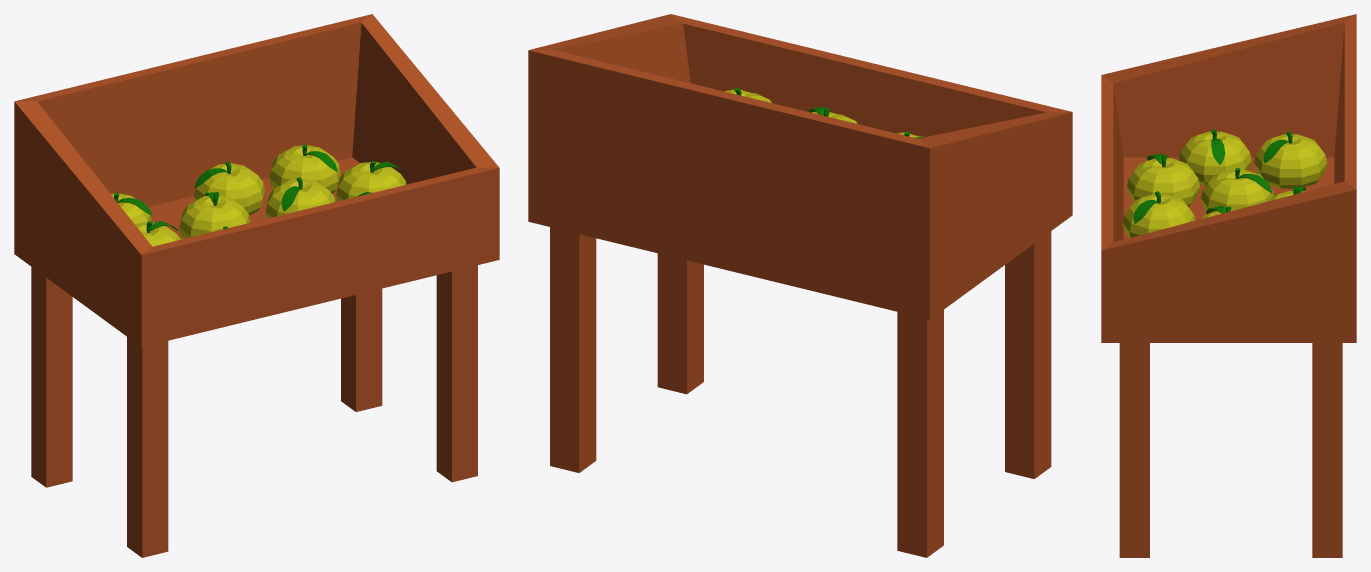
Rendered from stall2.fbx.
3 renders of one model, left to right at view 1: azimuth 30°, elevation 25°; view 2: azimuth 150°, elevation 25°; view 3: azimuth 270°, elevation 25°, orthographic. The views are drawn at different scales.
Visible parts, largest first — view 1: Cube, Sphere.007, Cube.001, Cube.002, Cube.003, Cube.004, Sphere.019; view 2: Cube, Cube.003, Cube.004, Cube.001, Cube.002; view 3: Cube, Sphere.007, Cube.002, Cube.004, Sphere.019.
Boxes of the visible parts, <box> form: Cube: <box>14,14,499,347</box>; Sphere.007: <box>111,145,406,246</box>; Cube.001: <box>127,337,168,557</box>; Cube.002: <box>436,265,477,482</box>; Cube.003: <box>31,267,72,487</box>; Cube.004: <box>341,288,382,411</box>; Sphere.019: <box>114,144,404,232</box>; Cube: <box>528,14,1072,319</box>; Cube.003: <box>897,310,943,557</box>; Cube.004: <box>550,227,596,472</box>; Cube.001: <box>1005,231,1051,478</box>; Cube.002: <box>657,253,703,394</box>; Cube: <box>1101,14,1356,342</box>; Sphere.007: <box>1122,131,1327,237</box>; Cube.002: <box>1119,343,1149,557</box>; Cube.004: <box>1312,343,1342,557</box>; Sphere.019: <box>1133,129,1305,223</box>.
Bounding box in the file's own units: 325 × 323 × 200.
